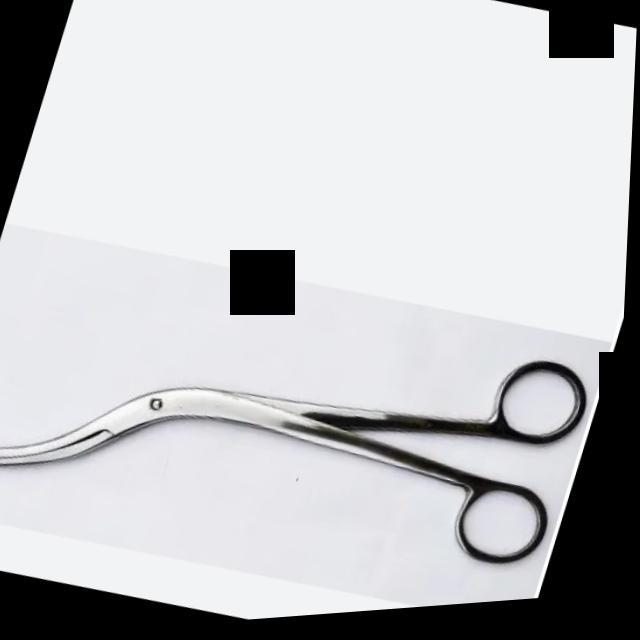Cheatle Forceps: (0, 212, 607, 637)
